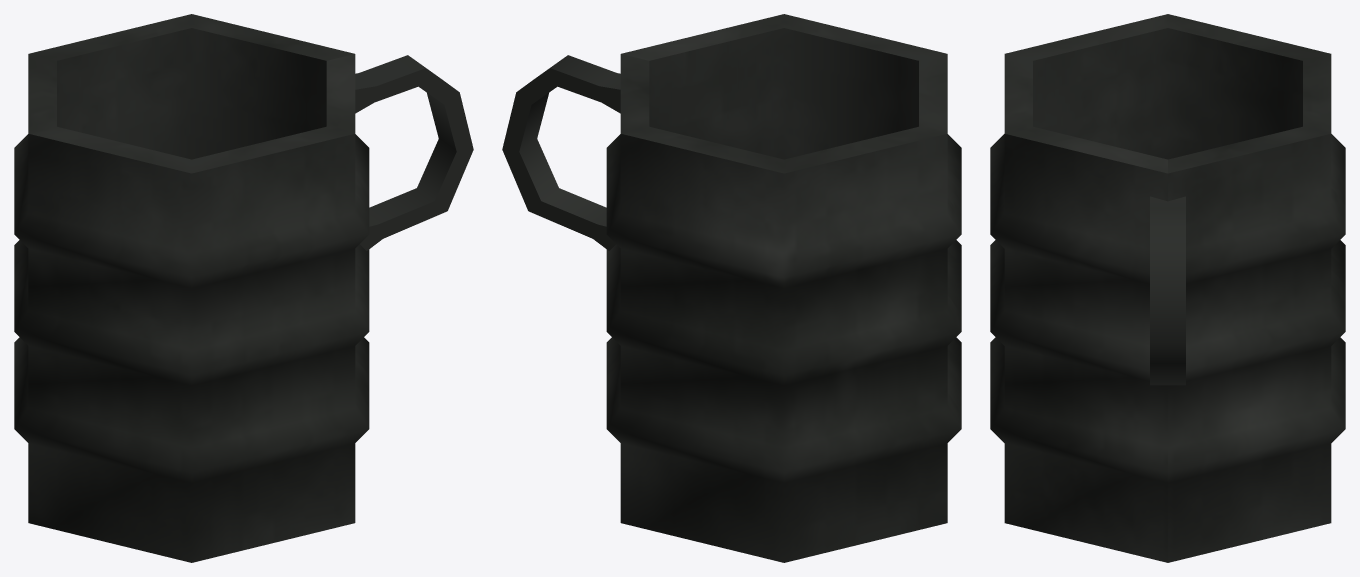
File: mug03.glb
3 views of the same model, side by side, from view 1: azimuth 30°, elevation 25°; view 2: azimuth 150°, elevation 25°; view 3: azimuth 270°, elevation 25° (orthographic).
Parts seen in each view (by area): view 1: mug03; view 2: mug03; view 3: mug03.
Part boxes in pixels (x1,y1,x2,y2): mug03: (14,14,473,562); mug03: (502,14,961,562); mug03: (990,14,1345,562).
Bounding box in the file's own units: 0.1453 × 0.12 × 0.0992.
1 material, 1 textured.
